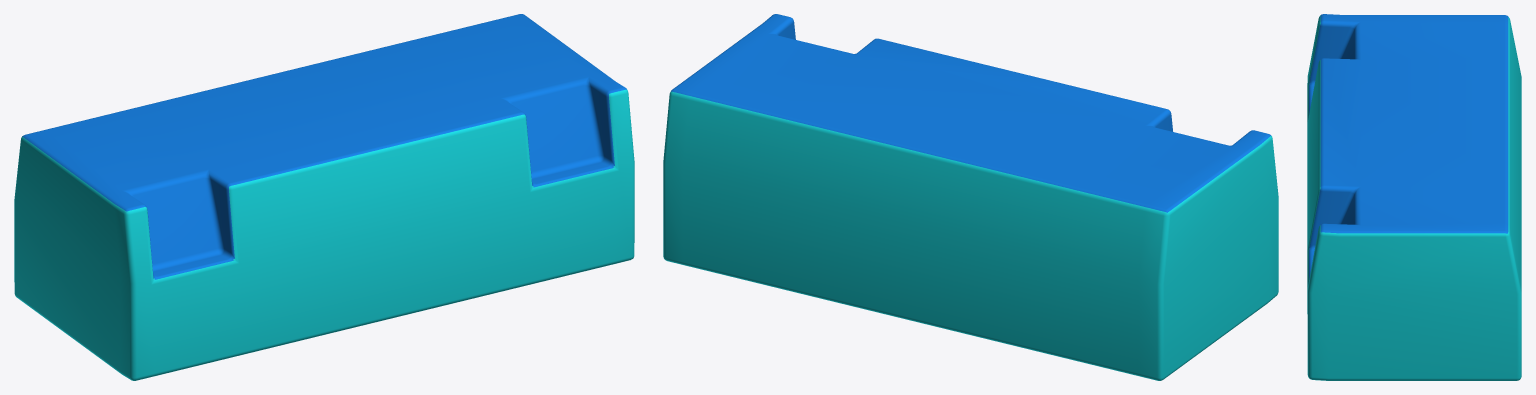
Rendered from finish.fbx.
3 views of the same model, side by side, from view 1: azimuth 30°, elevation 25°; view 2: azimuth 150°, elevation 25°; view 3: azimuth 270°, elevation 25° (orthographic). The views are drawn at different scales.
Visible parts, largest first — view 1: finish; view 2: finish; view 3: finish.
Part boxes in pixels (left/top/right/bottom): finish: left=14, top=14, right=634, bottom=380; finish: left=663, top=14, right=1278, bottom=380; finish: left=1307, top=14, right=1521, bottom=380.
Bounding box in the file's own units: 628 × 201 × 259.
